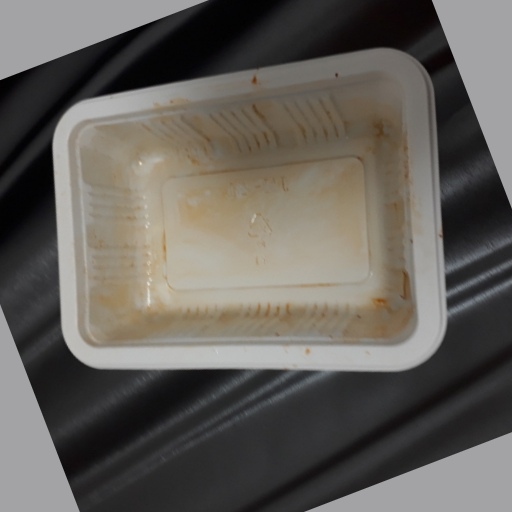Plastic_4: (48, 47, 448, 377)
